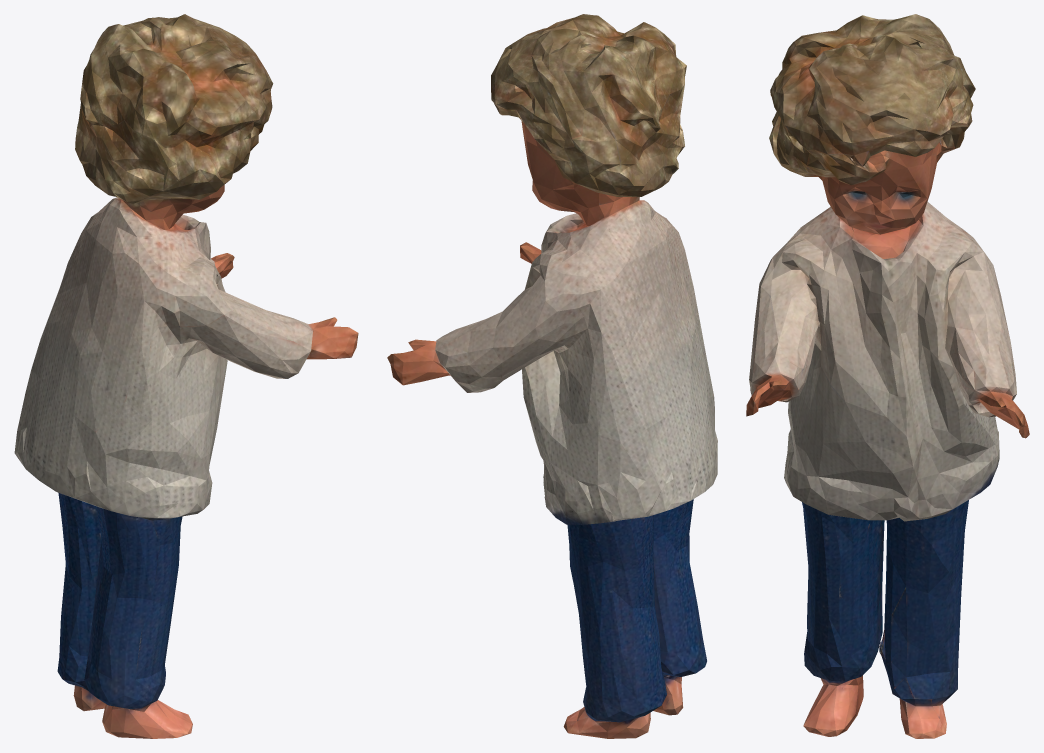
3 renders of one model, left to right at view 1: azimuth 30°, elevation 25°; view 2: azimuth 150°, elevation 25°; view 3: azimuth 270°, elevation 25°, orthographic. The views are drawn at different scales.
Parts seen in each view (by area): view 1: Puppenkleidung_3k_0.5k; view 2: Puppenkleidung_3k_0.5k; view 3: Puppenkleidung_3k_0.5k.
Boxes of the visible parts, bbox=[...] form: Puppenkleidung_3k_0.5k: bbox=[14, 14, 358, 738]; Puppenkleidung_3k_0.5k: bbox=[387, 14, 717, 738]; Puppenkleidung_3k_0.5k: bbox=[746, 14, 1029, 738].
Size of the model in its own units: 0.1478 by 0.3746 by 0.1356.
1 material, 1 textured.
